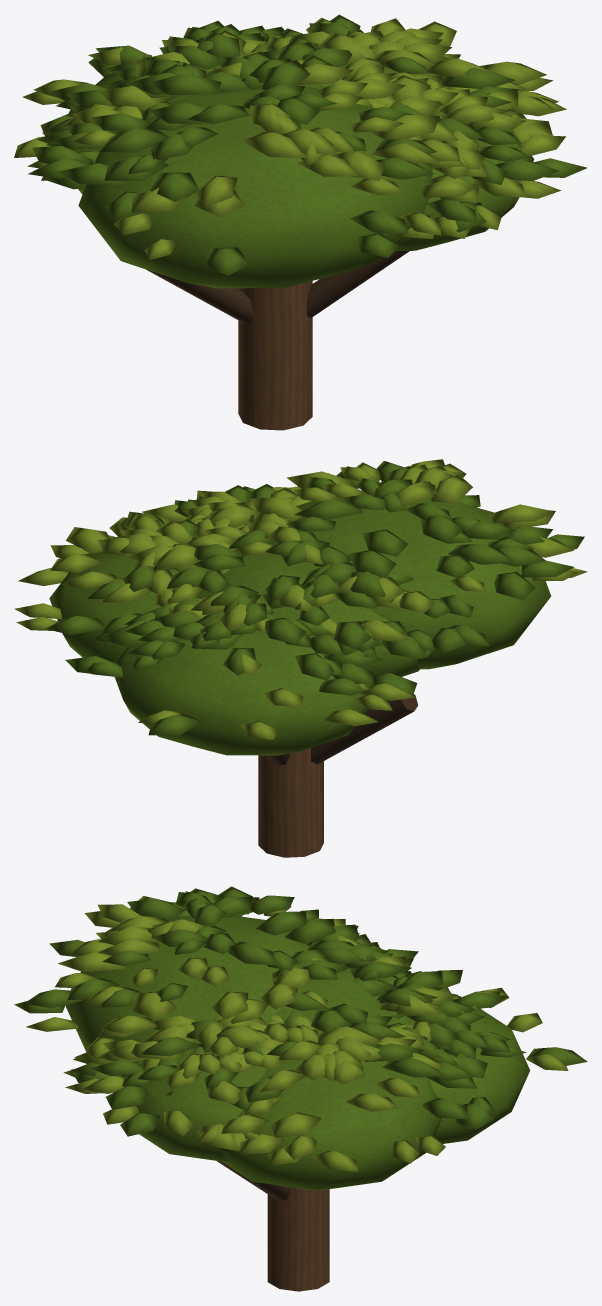
Rendered from tree-0.fbx.
The picture shows the model from 3 angles, top to bottom: view 1: azimuth 30°, elevation 25°; view 2: azimuth 150°, elevation 25°; view 3: azimuth 270°, elevation 25°; orthographic projection. The views are drawn at different scales.
Visible parts, largest first — view 1: tree-0__Geometry; view 2: tree-0__Geometry; view 3: tree-0__Geometry.
Part boxes in pixels (x1=…): tree-0__Geometry: x1=14, y1=14, x2=587, y2=430; tree-0__Geometry: x1=14, y1=459, x2=587, y2=857; tree-0__Geometry: x1=14, y1=886, x2=587, y2=1291.
Bounding box in the file's own units: 2.7 × 1.88 × 2.98.
